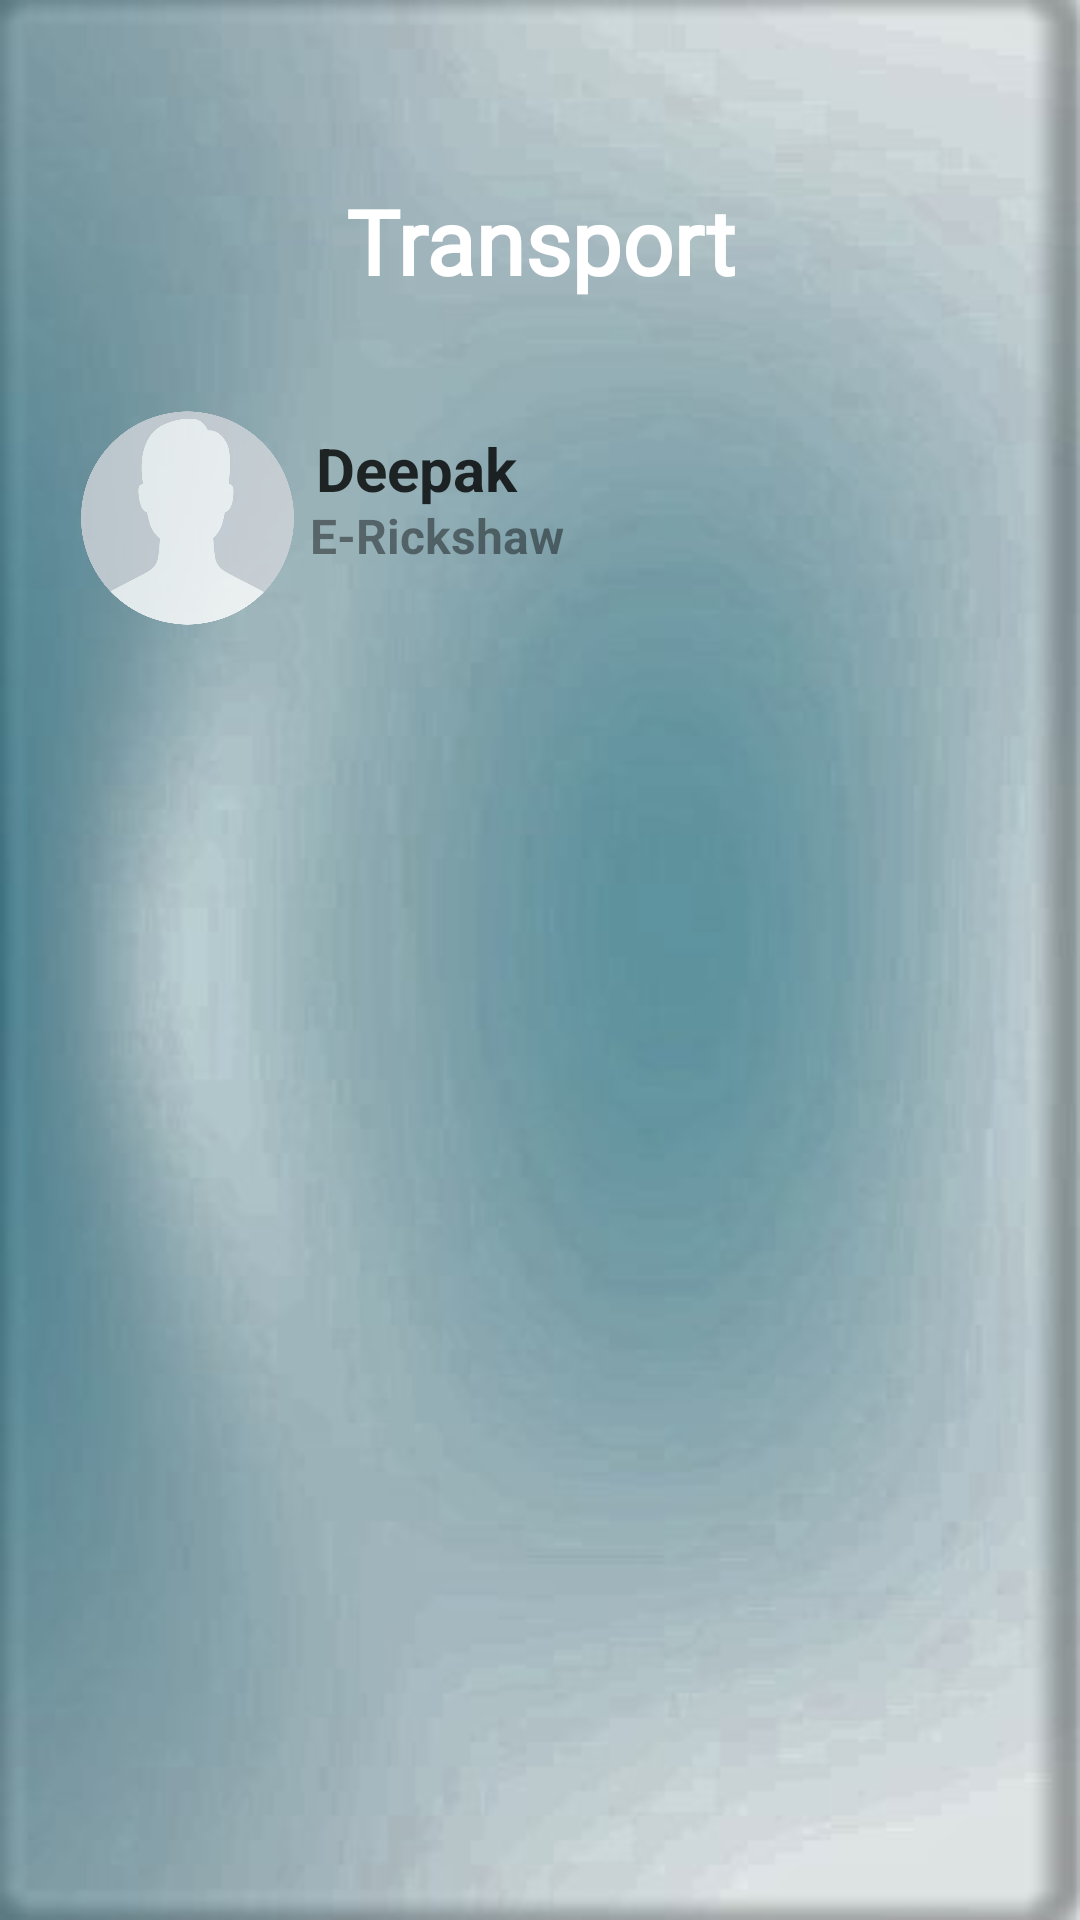

Icons on this 1080*1920 Android screen, each with the point to tap as [x,y]:
crcle: [157,518]
